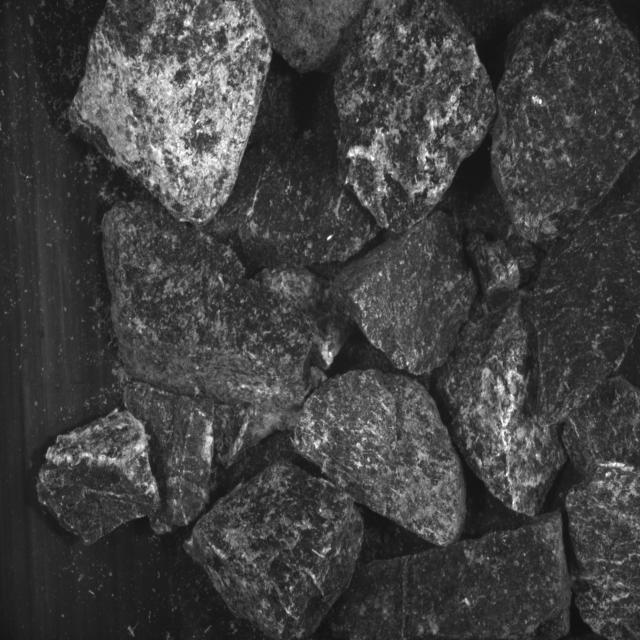Stones: (70, 1, 272, 224), (104, 202, 314, 412), (335, 1, 496, 234), (492, 4, 640, 245), (186, 463, 365, 640), (295, 371, 467, 547), (332, 514, 572, 640), (439, 292, 566, 517), (535, 199, 640, 425), (335, 213, 477, 376), (564, 378, 640, 639), (240, 139, 379, 268), (37, 411, 161, 545), (125, 384, 215, 534), (257, 267, 351, 370), (255, 1, 365, 74), (564, 378, 640, 474), (214, 404, 300, 468), (467, 232, 521, 297)
